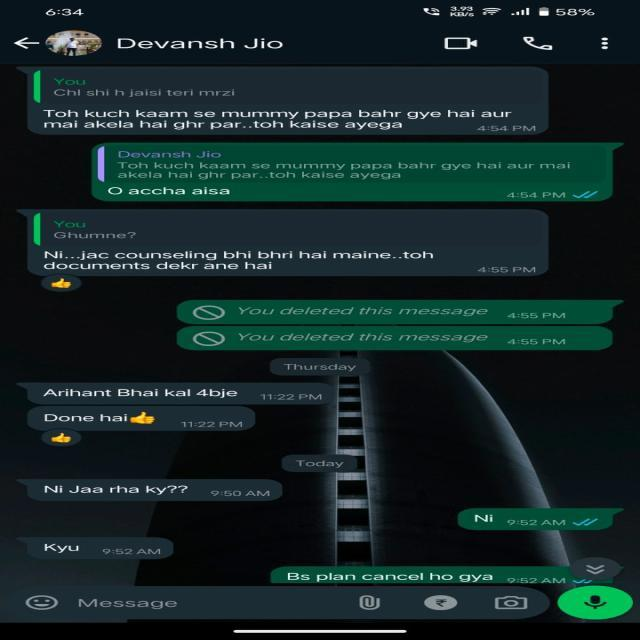scam: (29, 104, 554, 140), (28, 248, 555, 278), (23, 381, 340, 407), (23, 478, 287, 503), (22, 407, 258, 434), (20, 536, 176, 560)
